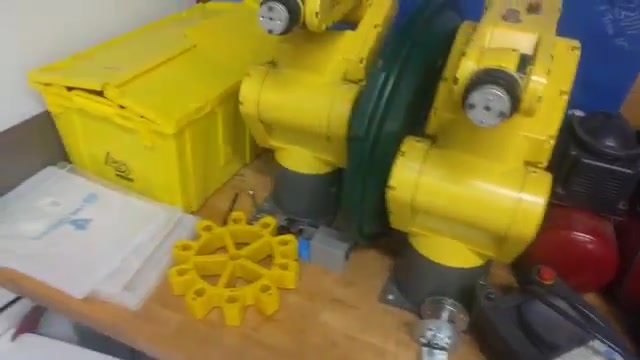gear: (164, 209, 301, 322)
